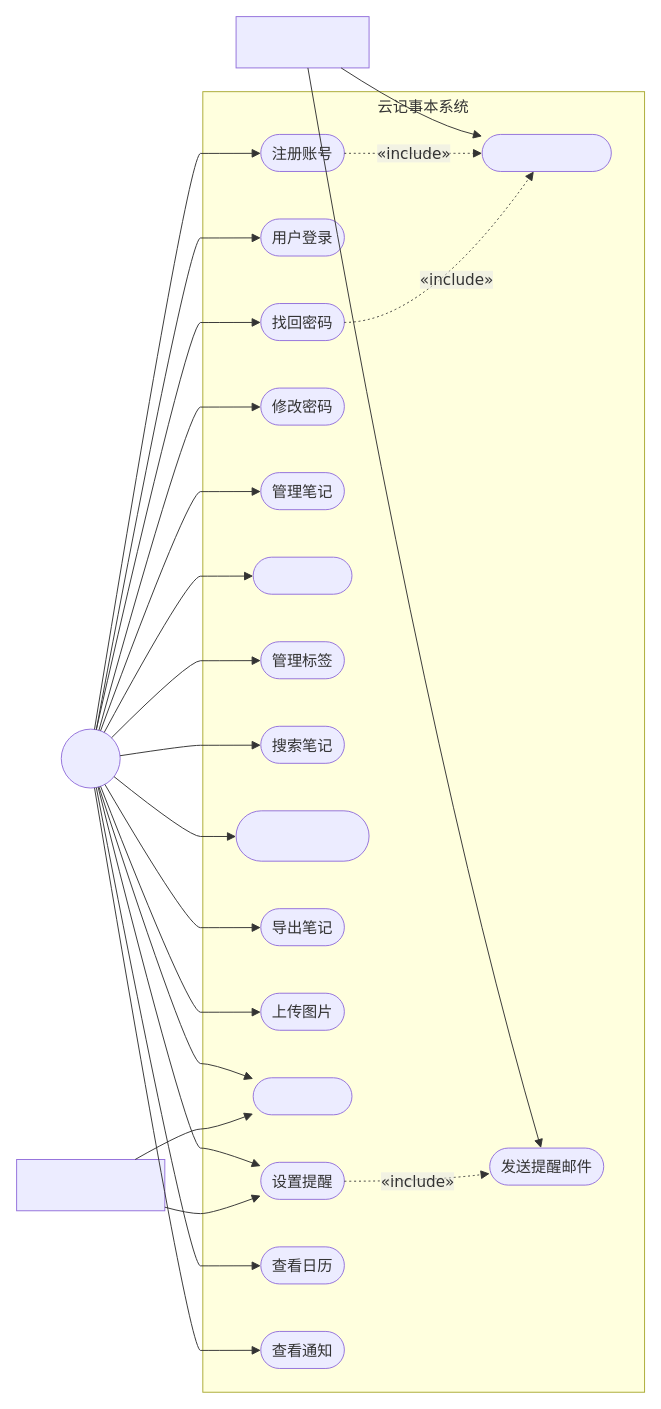
Some shapes in this 661 by 1409 pixel diagram are drawn without their labels. Each missing label, with the centre of its shape:
"发送邮箱验证码" belongs at (x=546, y=152).
"定时调度系统" belongs at (x=90, y=1185).
"导入笔记 仅支持 .md/.txt" belongs at (x=302, y=835).
"用户" belongs at (x=90, y=758).
"管理回收站" belongs at (x=302, y=1096).
"管理笔记本" belongs at (x=302, y=575).
"邮件服务器" belongs at (x=302, y=42).
